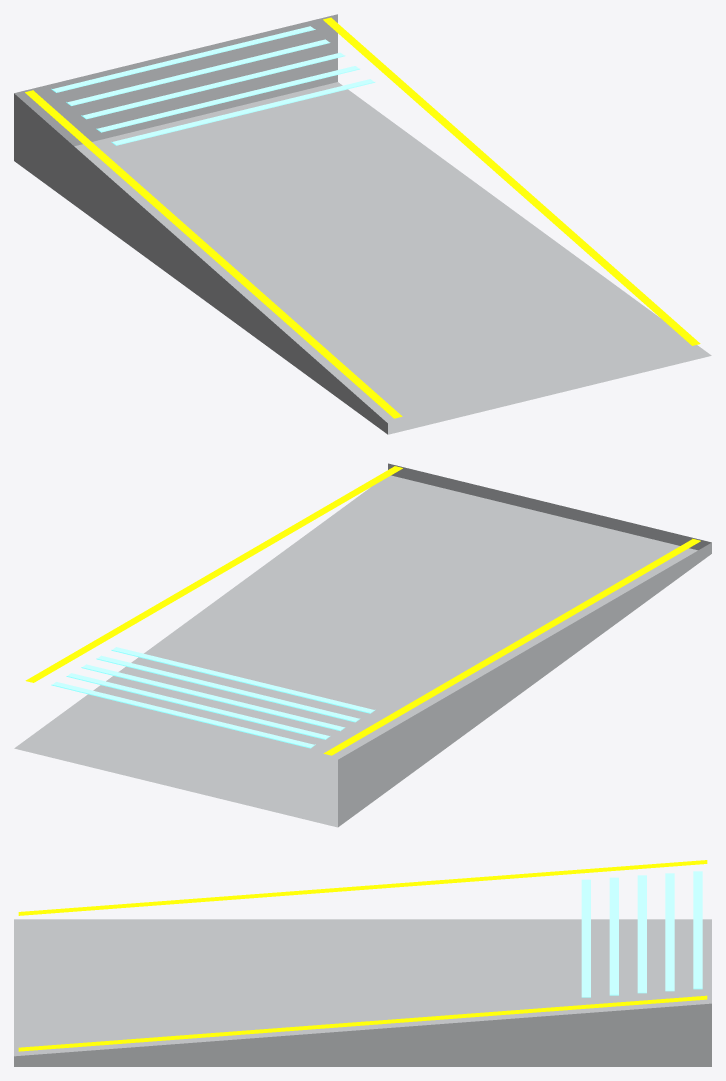
Rendered from ext_kerb_ramp_05.glb.
The picture shows the model from 3 angles, top to bottom: view 1: azimuth 30°, elevation 25°; view 2: azimuth 150°, elevation 25°; view 3: azimuth 270°, elevation 25°; orthographic projection. The views are drawn at different scales.
Visible parts, largest first — view 1: Ramp, Edge_Glow, Tactile_Bars; view 2: Ramp, Tactile_Bars, Edge_Glow; view 3: Ramp, Edge_Glow, Tactile_Bars.
Boxes of the visible parts, left/top/right/bottom form: Ramp: left=14, top=14, right=711, bottom=434; Edge_Glow: left=25, top=17, right=700, bottom=418; Tactile_Bars: left=51, top=26, right=375, bottom=145; Ramp: left=14, top=463, right=711, bottom=827; Tactile_Bars: left=51, top=647, right=375, bottom=748; Edge_Glow: left=25, top=466, right=700, bottom=755; Ramp: left=14, top=919, right=711, bottom=1066; Edge_Glow: left=18, top=860, right=707, bottom=1051; Tactile_Bars: left=581, top=871, right=702, bottom=997.
Bounding box in the file's own units: 1.5 × 0.3033 × 3.
